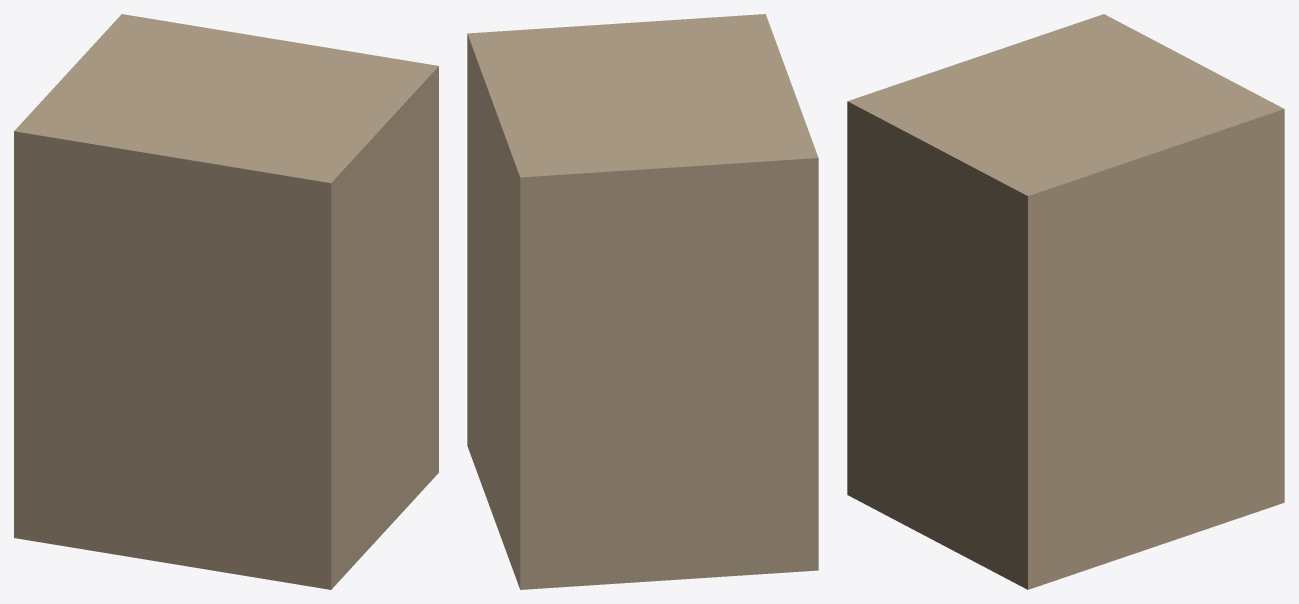
File: bld_108400881.dae
The picture shows the model from 3 angles, left to right: view 1: azimuth 30°, elevation 25°; view 2: azimuth 150°, elevation 25°; view 3: azimuth 270°, elevation 25°; orthographic projection. The views are drawn at different scales.
Parts seen in each view (by area): view 1: bld_108400881; view 2: bld_108400881; view 3: bld_108400881.
Boxes of the visible parts, box(x1,y1,x2,y2) form: bld_108400881: box(14, 14, 438, 589); bld_108400881: box(467, 14, 818, 589); bld_108400881: box(847, 14, 1284, 589).
Bounding box in the file's own units: 7.94 × 8.05 × 8.
